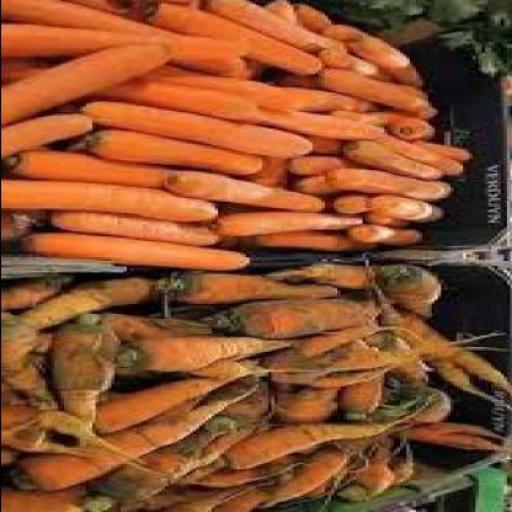biodegradable: (9, 387, 258, 491), (2, 0, 248, 75), (3, 38, 183, 126), (82, 429, 258, 509), (85, 99, 314, 156), (380, 312, 511, 408), (144, 2, 326, 71), (270, 323, 443, 388), (223, 412, 418, 468), (3, 391, 163, 458), (100, 368, 258, 433), (132, 69, 384, 109), (4, 177, 222, 221), (286, 459, 468, 511), (6, 274, 166, 332), (88, 129, 270, 174), (207, 0, 349, 57), (22, 233, 251, 268), (3, 23, 242, 55), (122, 334, 298, 376), (78, 78, 270, 116), (211, 296, 396, 335), (164, 268, 352, 306), (56, 319, 122, 421), (166, 170, 334, 208), (6, 149, 186, 183), (264, 444, 355, 511), (54, 210, 224, 244), (317, 68, 440, 112), (348, 23, 425, 89), (88, 310, 220, 347), (3, 311, 50, 414), (380, 261, 450, 322), (398, 418, 510, 455), (6, 111, 97, 154), (345, 138, 446, 176), (220, 211, 374, 235), (380, 136, 468, 178), (261, 106, 386, 135), (330, 169, 452, 198), (188, 459, 312, 486), (343, 450, 402, 504), (270, 385, 349, 425), (276, 260, 384, 289), (3, 484, 107, 510), (122, 484, 224, 510), (2, 276, 79, 310), (248, 230, 380, 249), (145, 487, 248, 511), (339, 376, 393, 420), (373, 193, 450, 223), (320, 48, 390, 81), (408, 386, 456, 426), (349, 223, 430, 245), (2, 208, 56, 238), (251, 152, 295, 186), (412, 140, 474, 164), (295, 0, 336, 33), (295, 154, 361, 173), (312, 464, 348, 497), (390, 116, 440, 139), (389, 104, 443, 121), (339, 193, 380, 213), (320, 24, 364, 40), (368, 210, 414, 224)
